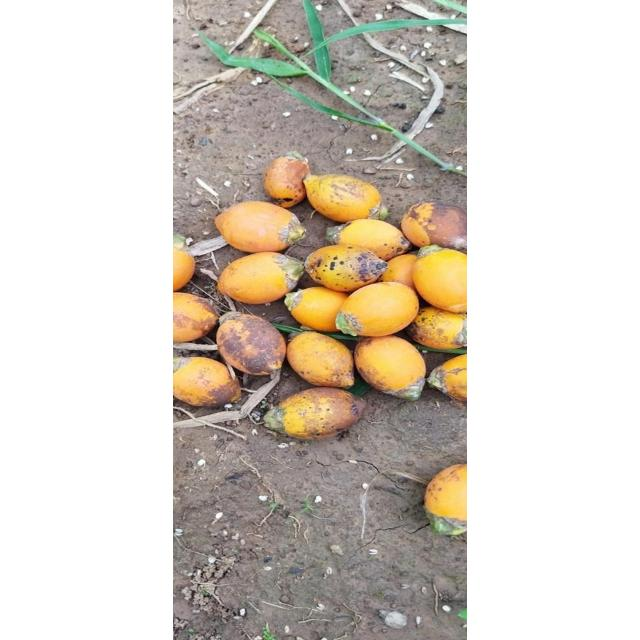good: (262, 388, 368, 438), (215, 312, 287, 376), (214, 202, 306, 252), (352, 336, 426, 398), (215, 252, 302, 304), (303, 244, 389, 292), (341, 283, 414, 337), (286, 332, 356, 388), (302, 174, 383, 222), (326, 218, 412, 260), (412, 247, 466, 313), (173, 355, 240, 407), (400, 201, 466, 251), (424, 462, 466, 536), (288, 287, 350, 333), (406, 306, 466, 350), (262, 154, 310, 206), (174, 292, 220, 344), (428, 352, 467, 404), (173, 244, 195, 292)
